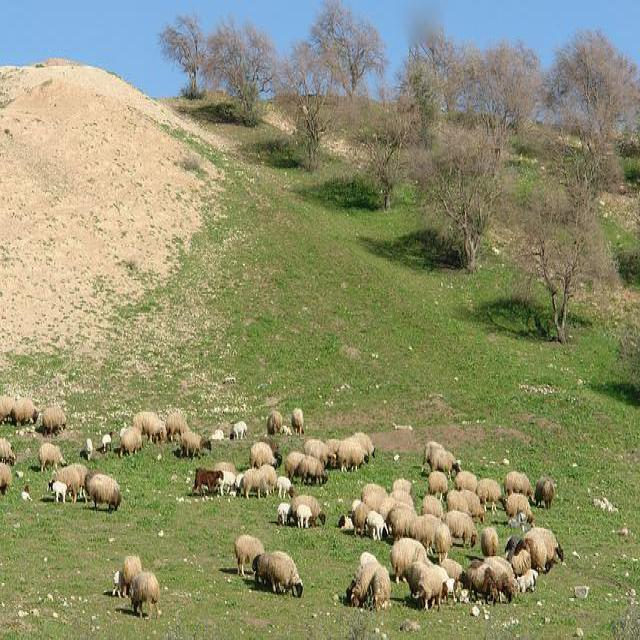Sheep: (0, 31, 587, 638), (407, 562, 444, 616)
